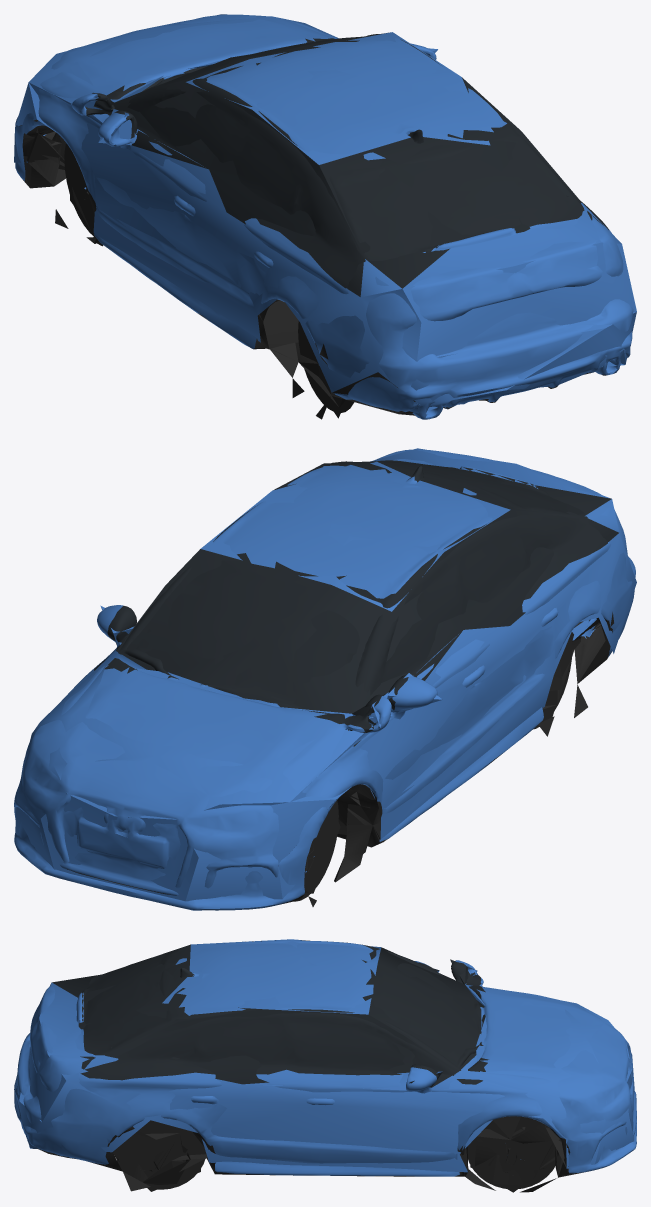
Rendered from audi-rs-3.glb.
3 renders of one model, top to bottom at view 1: azimuth 30°, elevation 25°; view 2: azimuth 150°, elevation 25°; view 3: azimuth 270°, elevation 25°, orthographic. The views are drawn at different scales.
Parts seen in each view (by area): view 1: body, far; view 2: body, far; view 3: body, far.
Boxes of the visible parts, x1,y1,x2,y2 form: body: [15, 14, 633, 419]; far: [14, 14, 636, 418]; body: [14, 449, 635, 910]; far: [15, 448, 636, 906]; body: [14, 940, 636, 1192]; far: [14, 939, 634, 1192].
Size of the model in its own units: 2.08 by 1.44 by 4.36.
